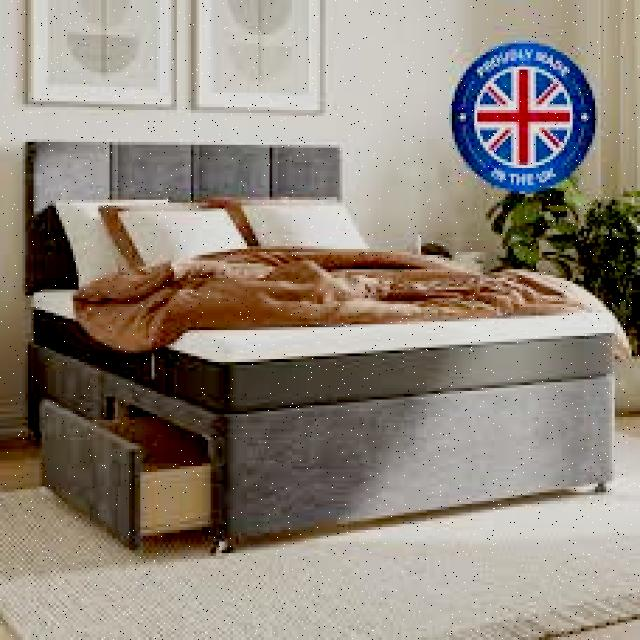bed: (38, 132, 606, 521)
